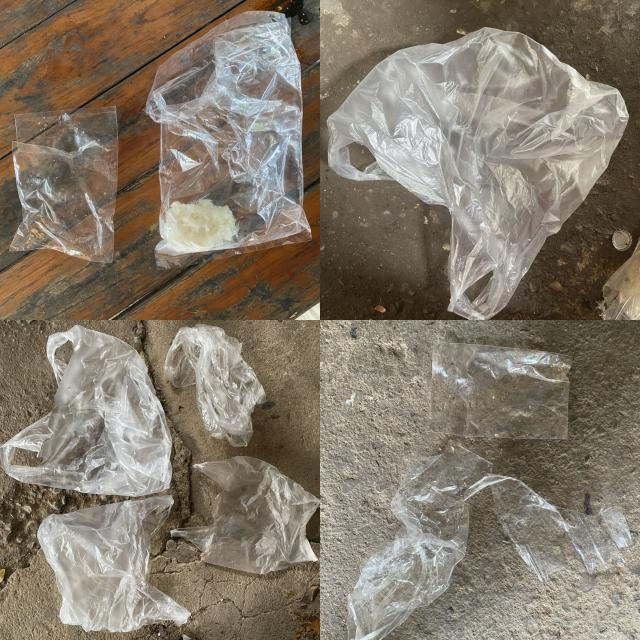Single-layer Plastic: (328, 28, 629, 319), (349, 445, 630, 639), (146, 11, 311, 269), (0, 326, 171, 496), (39, 496, 190, 631), (171, 456, 320, 574), (10, 106, 119, 262), (426, 340, 572, 439), (164, 324, 266, 446)
